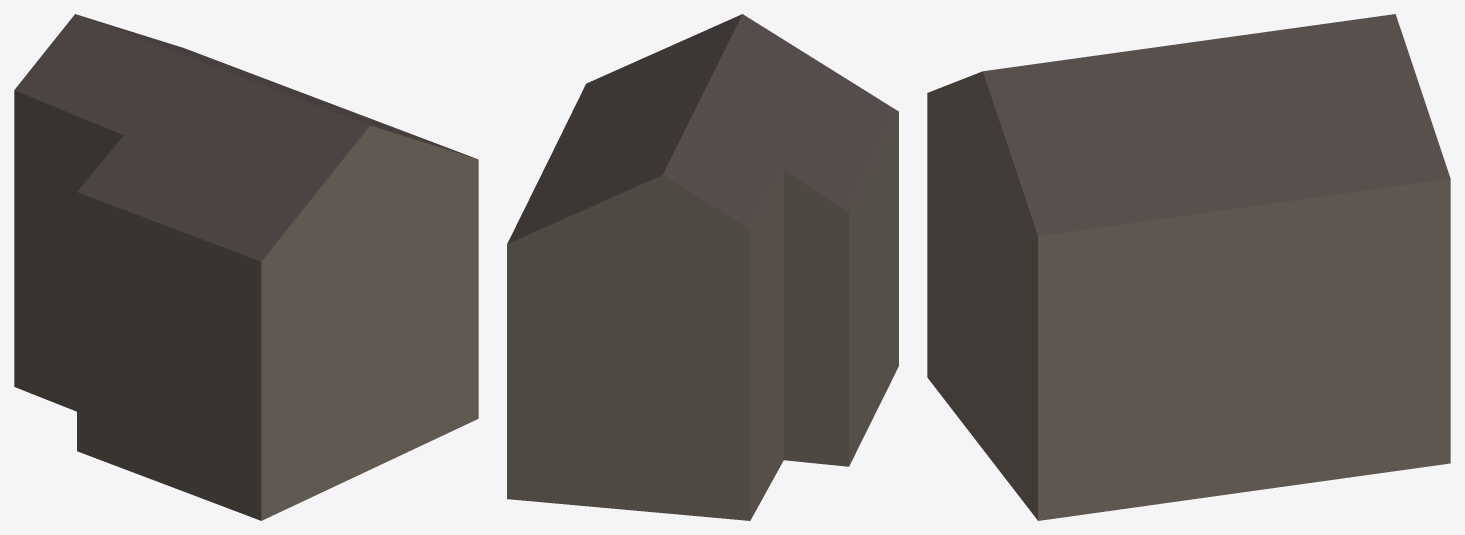
3 renders of one model, left to right at view 1: azimuth 30°, elevation 25°; view 2: azimuth 150°, elevation 25°; view 3: azimuth 270°, elevation 25°, orthographic. The views are drawn at different scales.
Parts seen in each view (by area): view 1: HP-w1198645080; view 2: HP-w1198645080; view 3: HP-w1198645080.
Part boxes in pixels (x1,y1,x2,y2): HP-w1198645080: [14, 14, 478, 520]; HP-w1198645080: [507, 14, 898, 520]; HP-w1198645080: [927, 14, 1450, 520].
Size of the model in its own units: 8.11 by 7.97 by 10.
